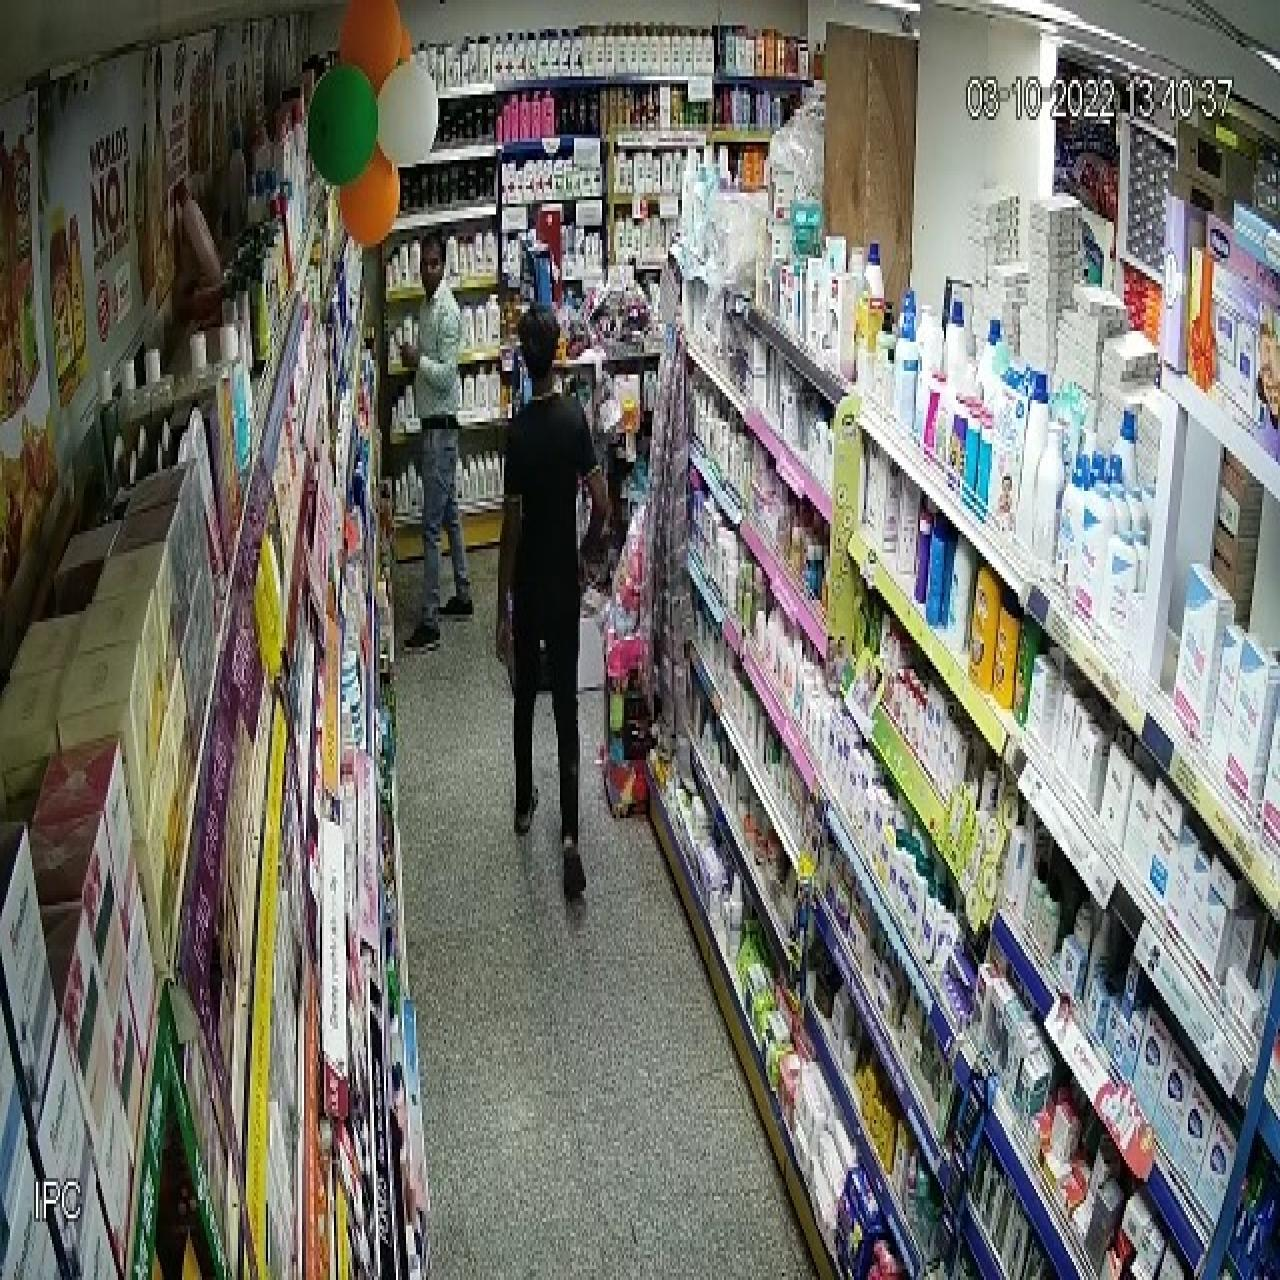Shoplifting: (503, 294, 641, 881)
